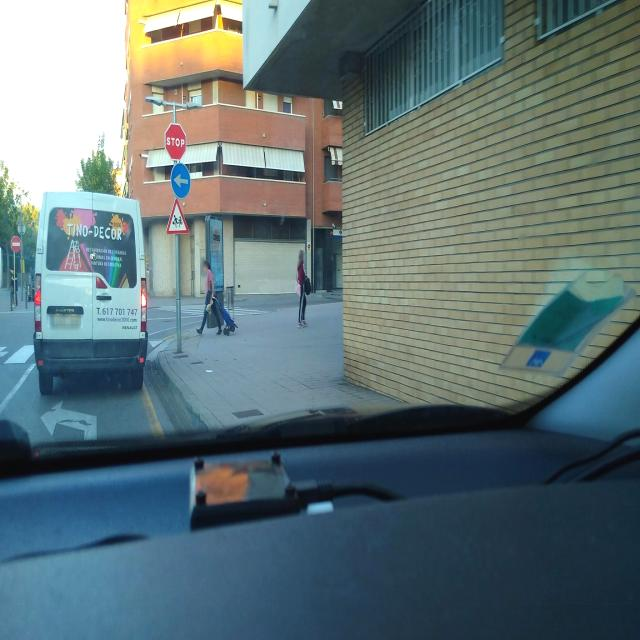car: (33, 189, 148, 393)
